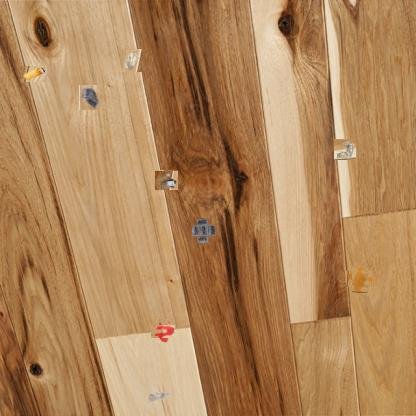dirty: (79, 84, 100, 110), (154, 170, 178, 191), (334, 138, 356, 160), (122, 50, 142, 74), (21, 66, 47, 82), (146, 390, 170, 404), (194, 222, 212, 240)
liquid: (349, 268, 371, 290), (153, 322, 173, 340)
